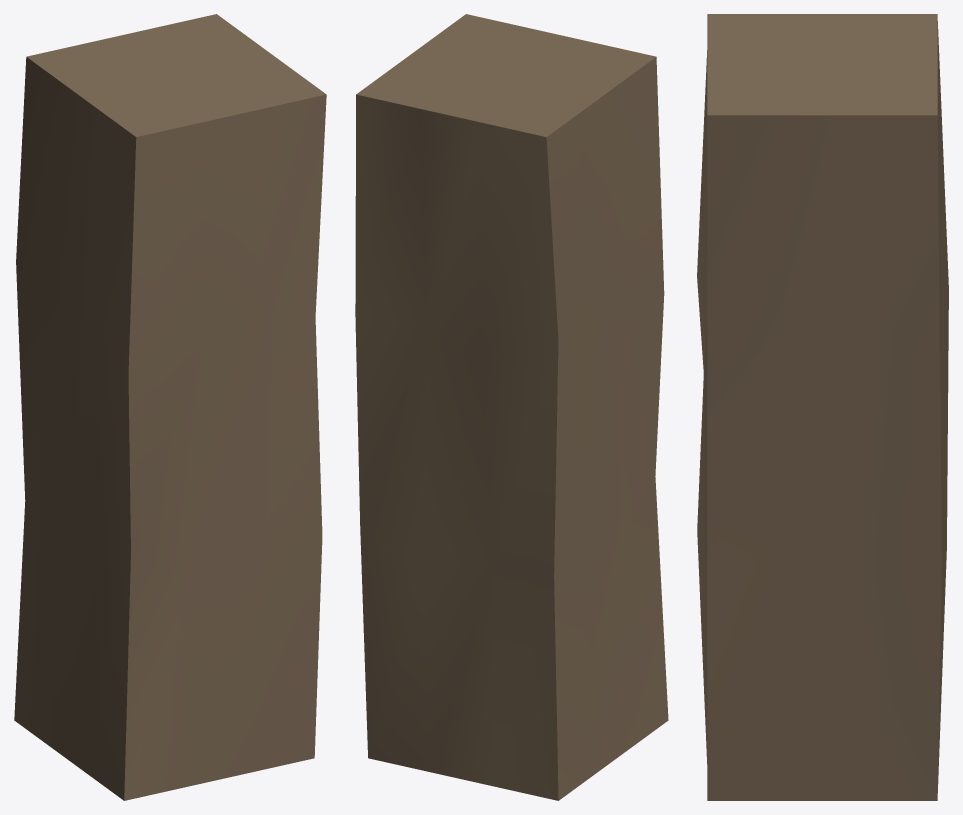
Rendered from Pillar 1.fbx.
The picture shows the model from 3 angles, left to right: view 1: azimuth 30°, elevation 25°; view 2: azimuth 150°, elevation 25°; view 3: azimuth 270°, elevation 25°; orthographic projection. The views are drawn at different scales.
Visible parts, largest first — view 1: Beam; view 2: Beam; view 3: Beam.
Boxes of the visible parts, <box> form: Beam: <box>14,14,326,800</box>; Beam: <box>355,14,668,800</box>; Beam: <box>697,14,948,800</box>.
Size of the model in its own units: 1.06 by 3.33 by 1.09.
